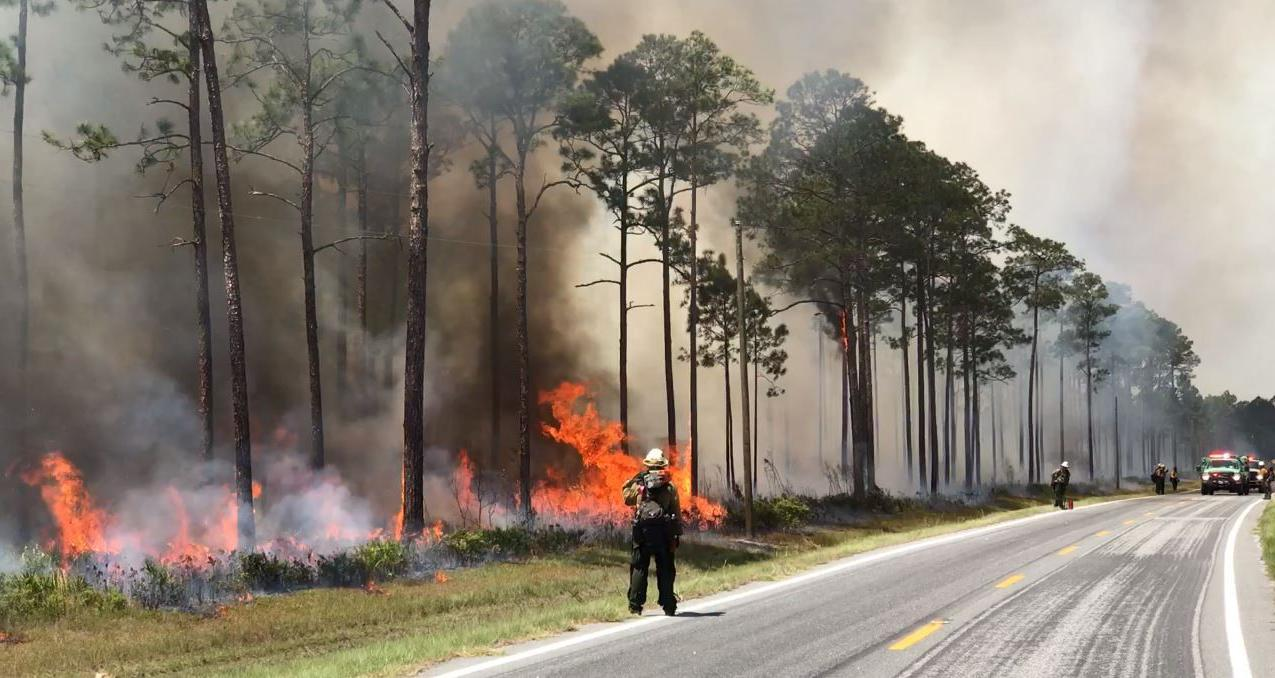Fire: (29, 428, 264, 590), (512, 384, 644, 525), (318, 438, 448, 543), (670, 450, 732, 523), (454, 449, 487, 513)
